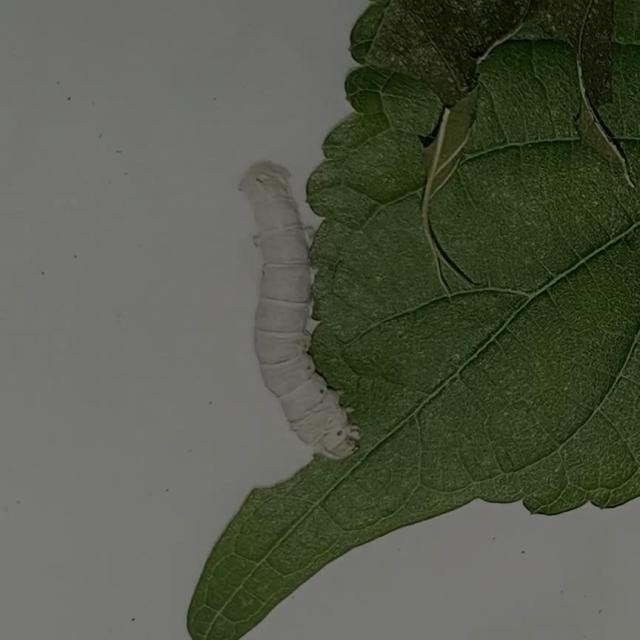Healthy: (222, 113, 372, 496)
